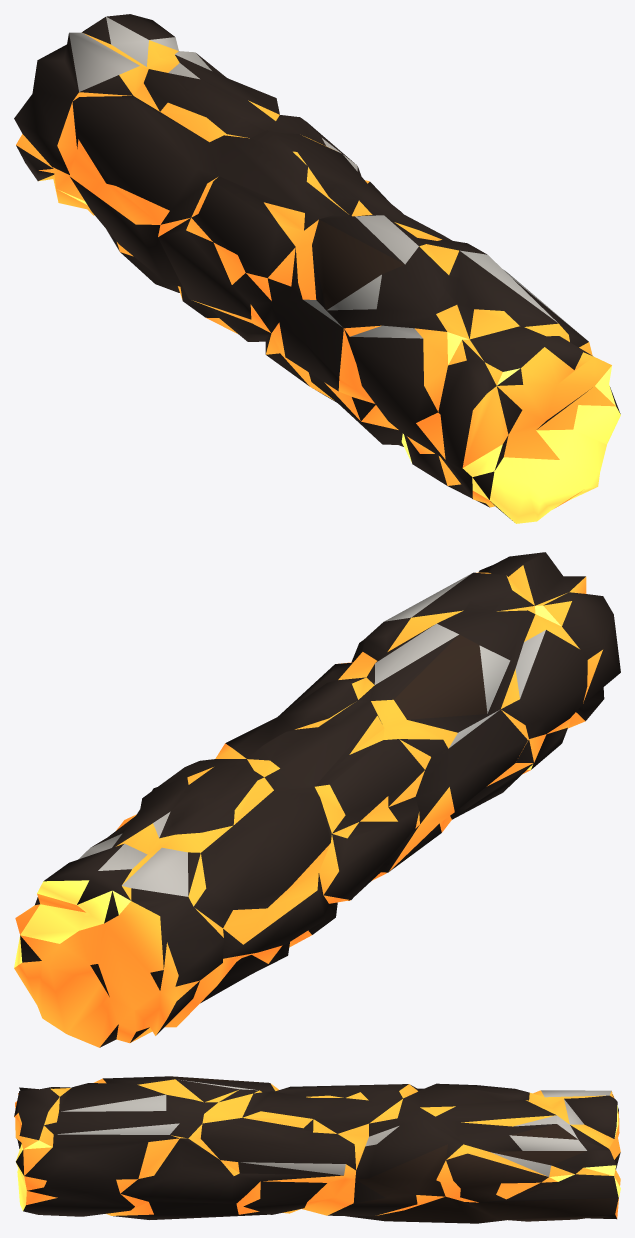
Rendered from ember_log_burning_lod2.glb.
3 views of the same model, one above another, from view 1: azimuth 30°, elevation 25°; view 2: azimuth 150°, elevation 25°; view 3: azimuth 270°, elevation 25° (orthographic). The views are drawn at different scales.
Parts seen in each view (by area): view 1: ember_log_burning.001; view 2: ember_log_burning.001; view 3: ember_log_burning.001.
Part boxes in pixels (x1,y1,x2,y2): ember_log_burning.001: (14,14,620,523); ember_log_burning.001: (14,552,620,1047); ember_log_burning.001: (14,1076,620,1223).
Size of the model in its own units: 10.05 by 9.88 by 40.56.
